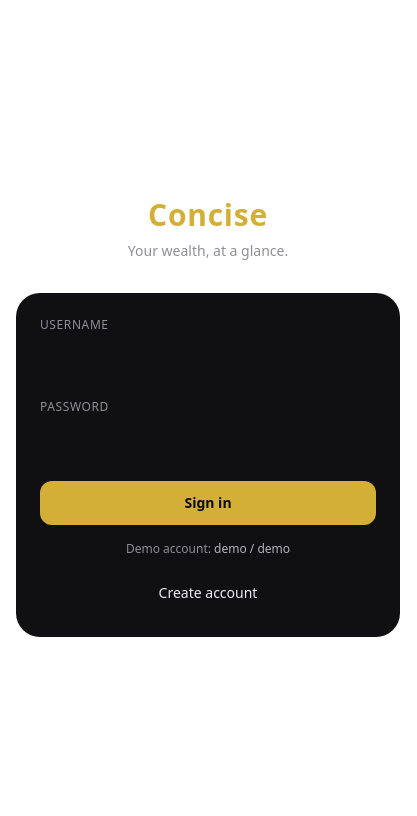
create account › is reachable from the login page
Click the link "Create account" at (208, 592), box 159,583 -> 257,602
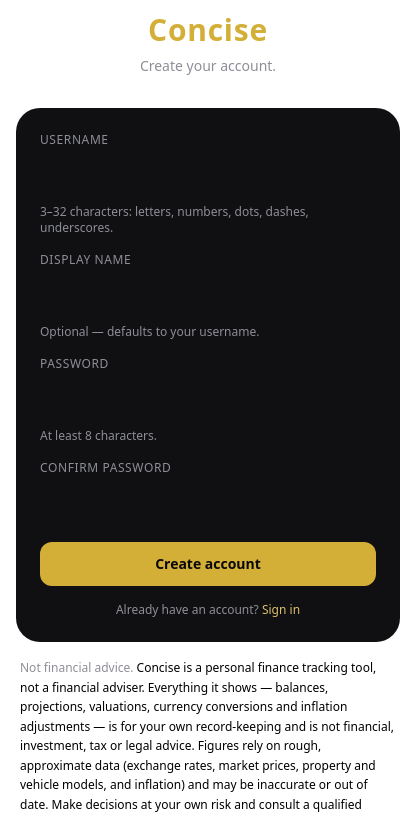
expect the text "Create your account." is shown: met, box 140,56 -> 276,75
